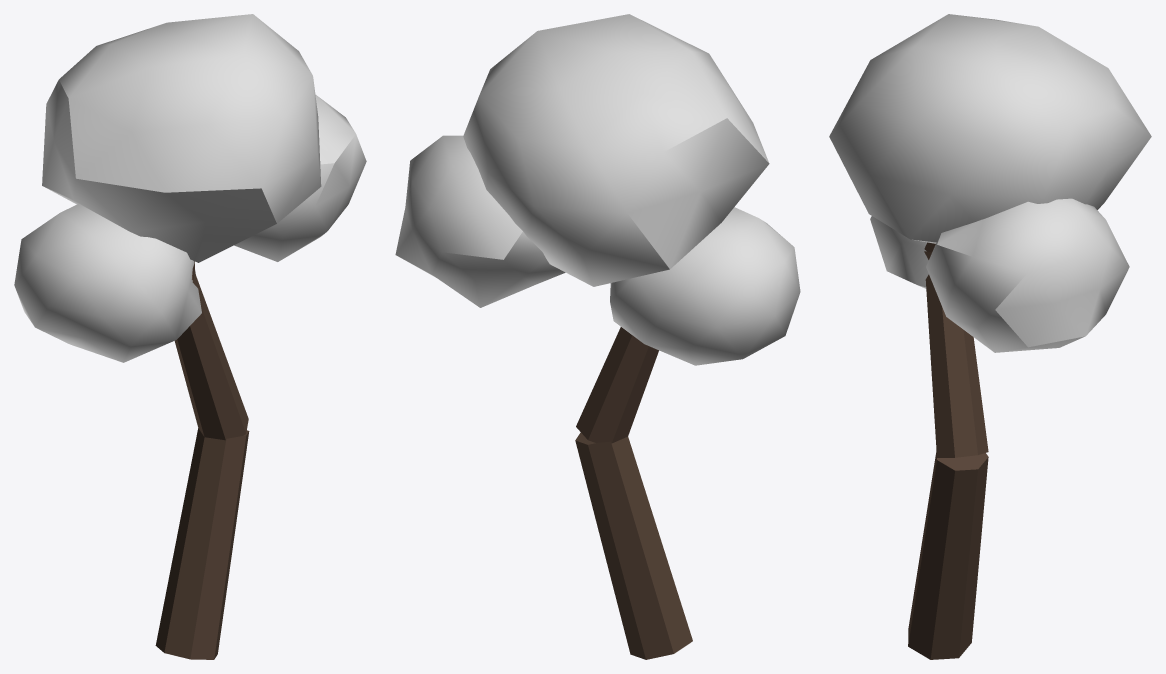
File: tree_crooked.glb
3 views of the same model, side by side, from view 1: azimuth 30°, elevation 25°; view 2: azimuth 150°, elevation 25°; view 3: azimuth 270°, elevation 25° (orthographic). The views are drawn at different scales.
Parts seen in each view (by area): view 1: tree_crooked; view 2: tree_crooked; view 3: tree_crooked.
Boxes of the visible parts, bbox=[...] form: tree_crooked: bbox=[14, 14, 366, 659]; tree_crooked: bbox=[395, 14, 800, 659]; tree_crooked: bbox=[829, 14, 1151, 659].
Bounding box in the file's own units: 5.2 × 8.6 × 4.04.
